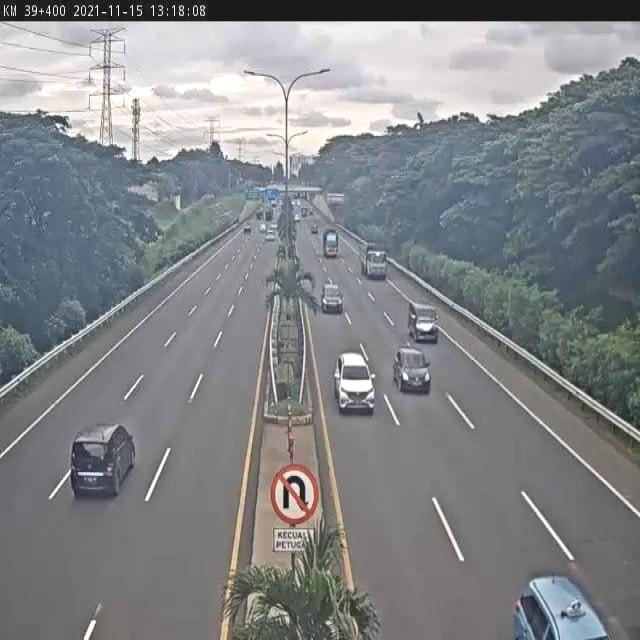Car: (70, 423, 137, 499), (333, 352, 376, 416), (392, 347, 432, 395), (321, 283, 344, 315)
Truck: (359, 242, 387, 281), (322, 228, 339, 259)
Van: (407, 300, 439, 344)
